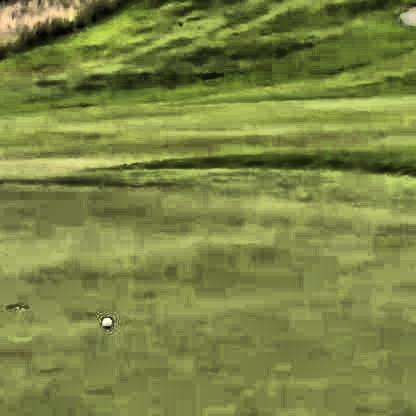golfball: (99, 314, 111, 326)
